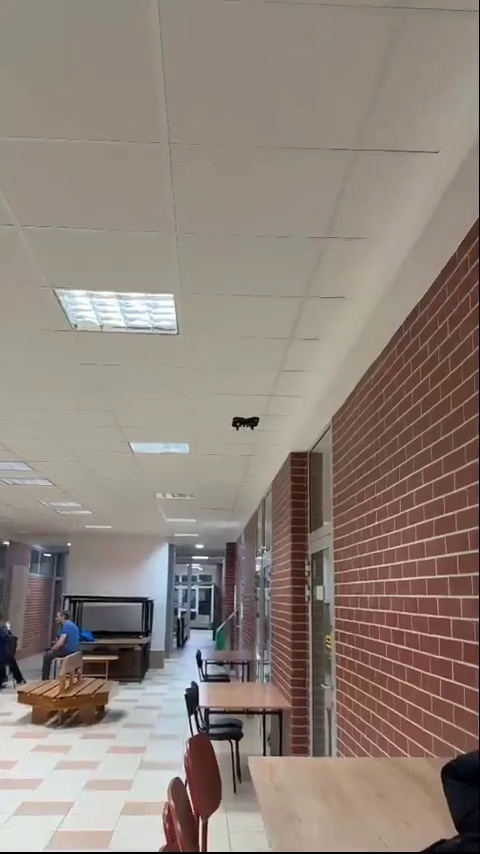drone: (231, 417, 257, 429)
no vest: (47, 608, 81, 680)
